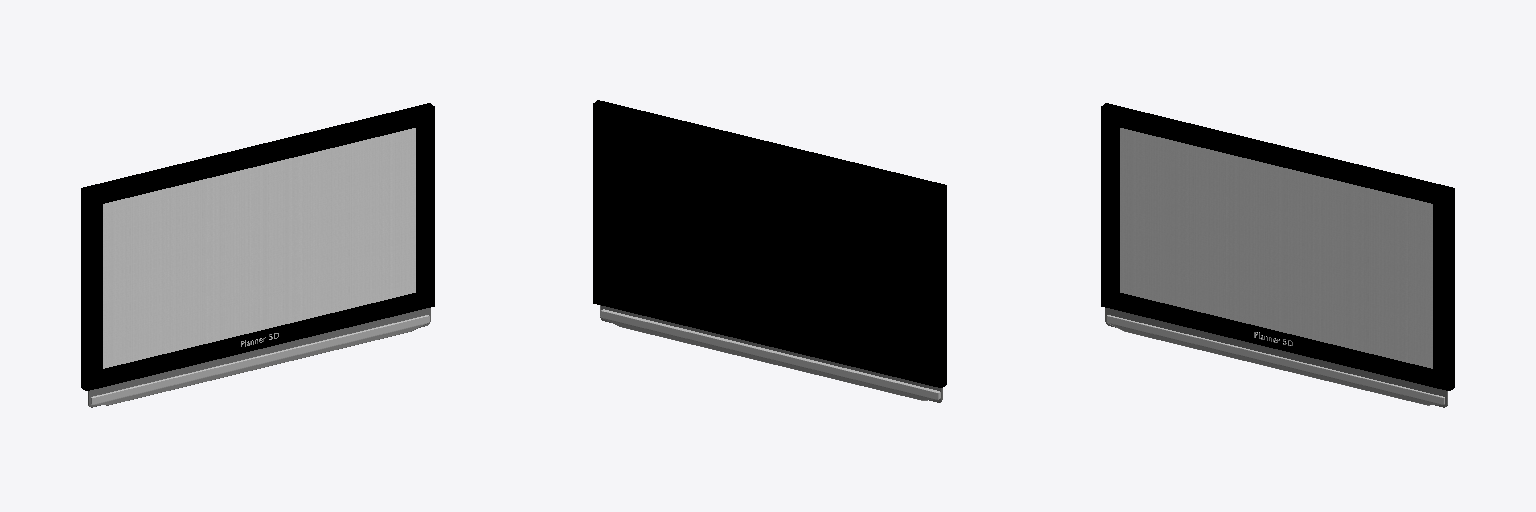
3 renders of one model, left to right at view 1: azimuth 30°, elevation 25°; view 2: azimuth 150°, elevation 25°; view 3: azimuth 330°, elevation 25°, orthographic.
Size of the model in its own units: 0.98 by 0.59 by 0.0501.
Materials: 4 (1 with a texture image).